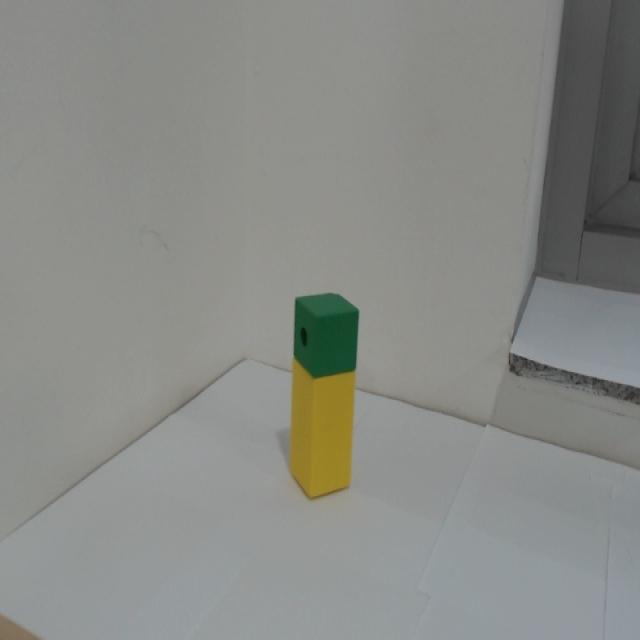cube: (291, 277, 367, 379)
